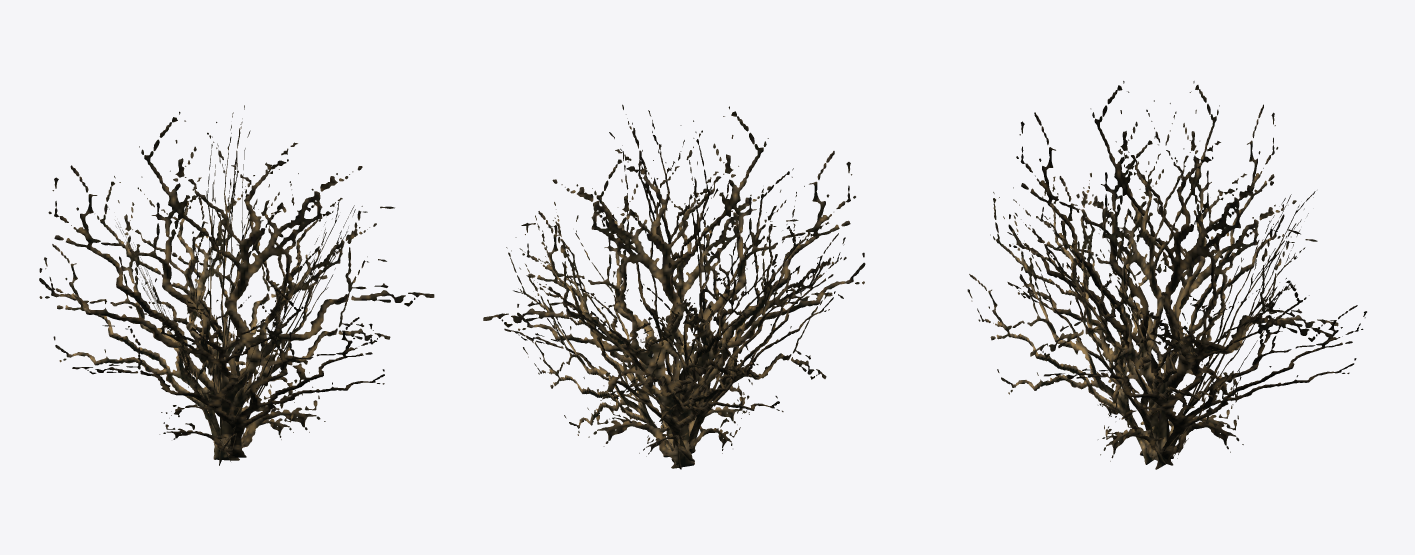
Rendered from mbushnak_1.obj.
3 renders of one model, left to right at view 1: azimuth 30°, elevation 25°; view 2: azimuth 150°, elevation 25°; view 3: azimuth 270°, elevation 25°, orthographic. The views are drawn at different scales.
Parts seen in each view (by area): view 1: mbushnak_1; view 2: mbushnak_1; view 3: mbushnak_1.
Boxes of the visible parts, left/top/right/bottom form: mbushnak_1: left=39, top=105, right=434, bottom=465; mbushnak_1: left=483, top=104, right=865, bottom=469; mbushnak_1: left=967, top=81, right=1366, bottom=469.
Bounding box in the file's own units: 2.67 × 2.64 × 2.88.
